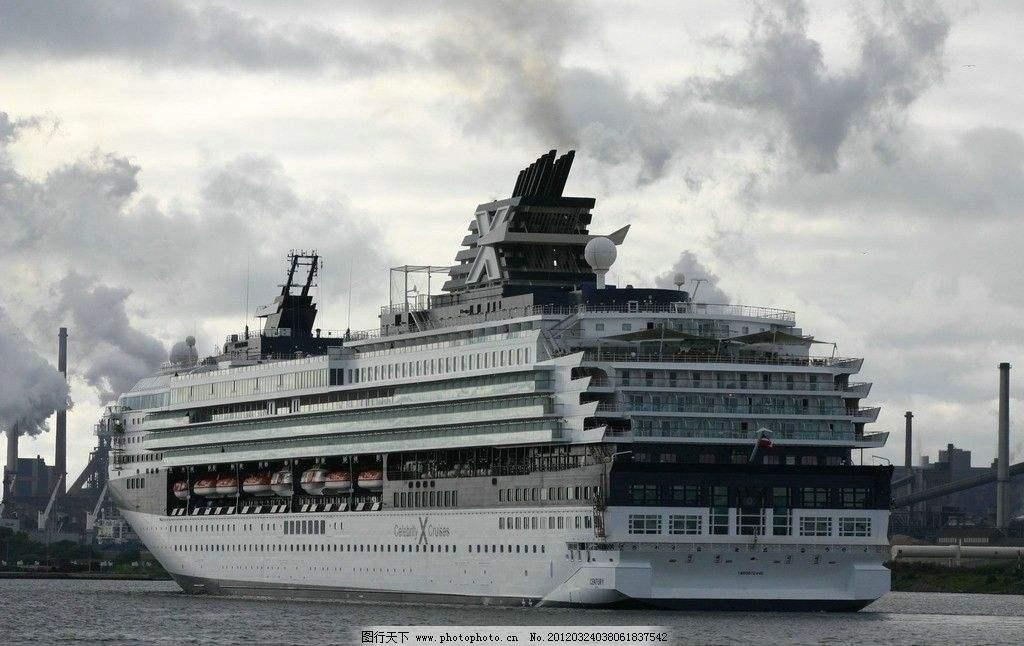youlun: (100, 145, 900, 606)
